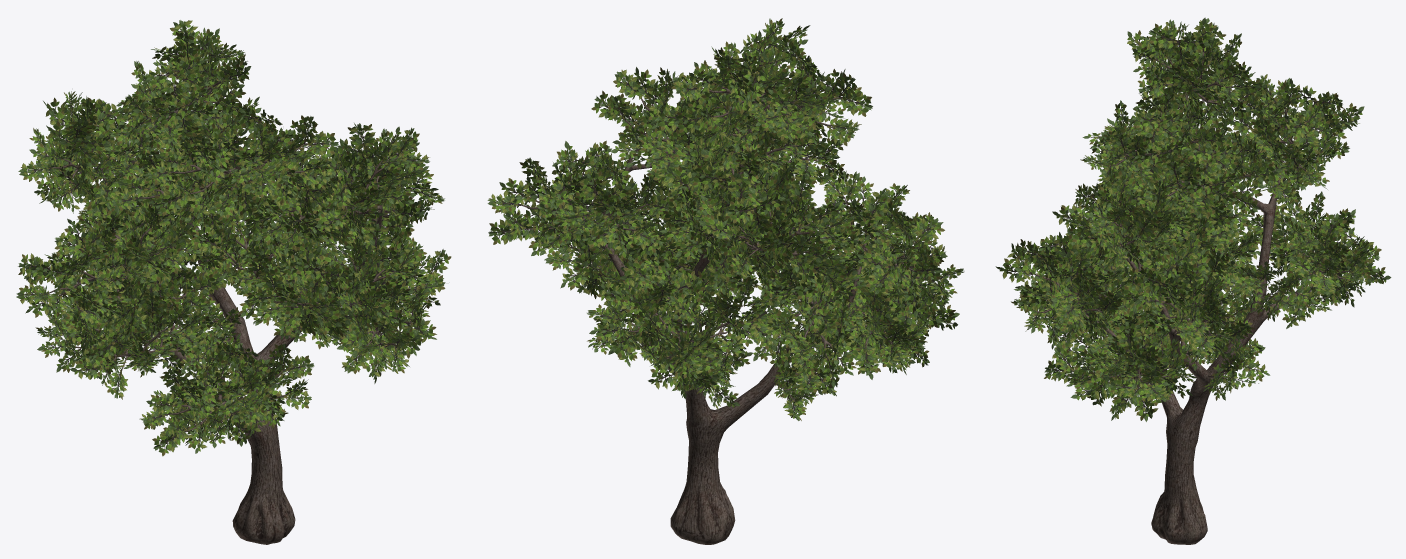
Rendered from tree1.glb.
The picture shows the model from 3 angles, left to right: view 1: azimuth 30°, elevation 25°; view 2: azimuth 150°, elevation 25°; view 3: azimuth 270°, elevation 25°; orthographic projection. The views are drawn at different scales.
Visible parts, largest first — view 1: crown merged_normal leaves_0, trunk_low_trunk_0, br_low_trunk_0; view 2: crown merged_normal leaves_0, trunk_low_trunk_0, br_low_trunk_0; view 3: crown merged_normal leaves_0, trunk_low_trunk_0, br_low_trunk_0.
Part boxes in pixels (x1=…): crown merged_normal leaves_0: x1=16, y1=20, x2=451, y2=456; trunk_low_trunk_0: x1=91, y1=108, x2=382, y2=544; br_low_trunk_0: x1=47, y1=64, x2=414, y2=431; crown merged_normal leaves_0: x1=487, y1=18, x2=964, y2=420; trunk_low_trunk_0: x1=590, y1=97, x2=869, y2=544; br_low_trunk_0: x1=520, y1=54, x2=932, y2=400; crown merged_normal leaves_0: x1=995, y1=17, x2=1391, y2=421; trunk_low_trunk_0: x1=1068, y1=89, x2=1309, y2=544; br_low_trunk_0: x1=1031, y1=51, x2=1349, y2=383.
Size of the model in its own units: 0.8938 by 1 by 0.7303.
Materials: 2 (2 with a texture image).
